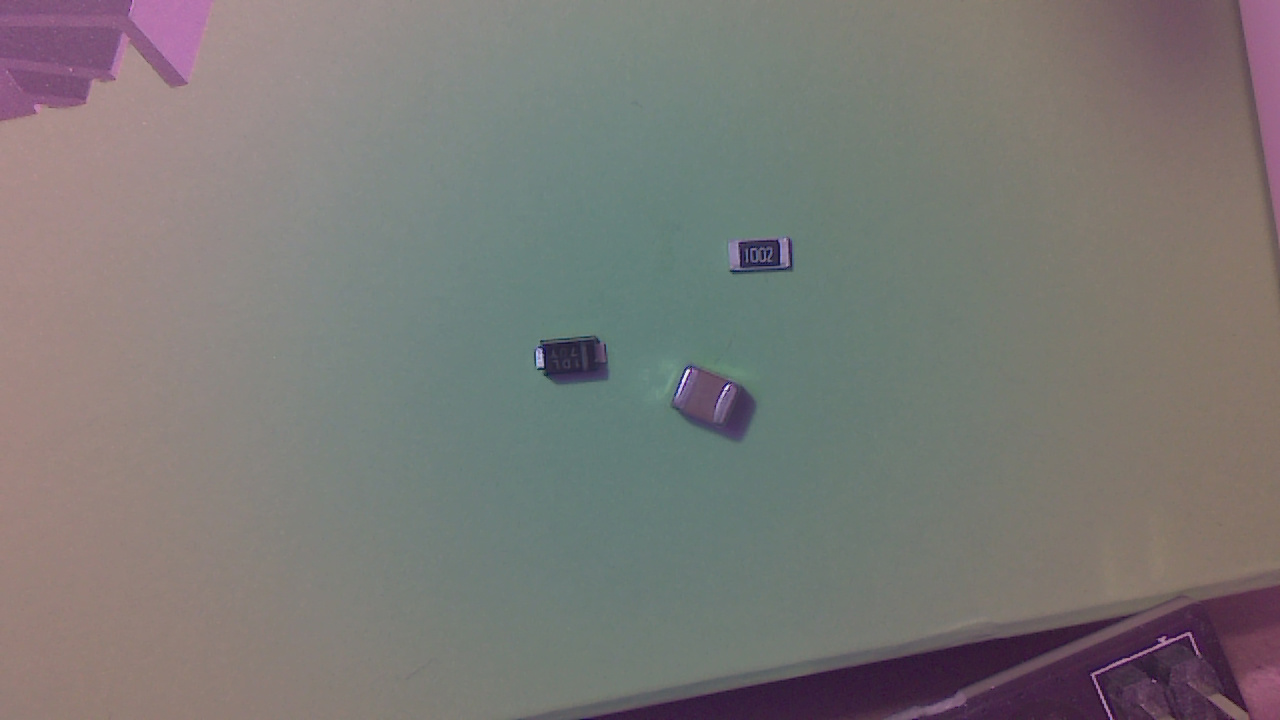Condensator: (680, 368, 747, 432)
Diode: (545, 338, 614, 384)
Resistor: (731, 242, 799, 277)
